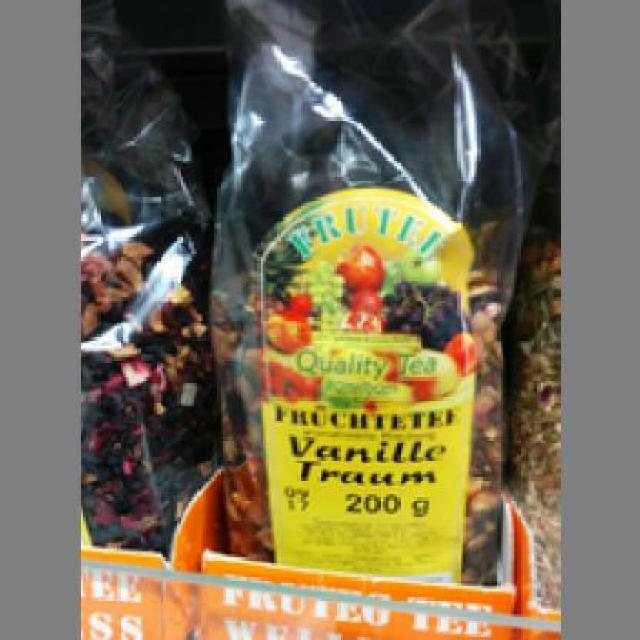Tea: (197, 3, 543, 580), (81, 2, 205, 548)
